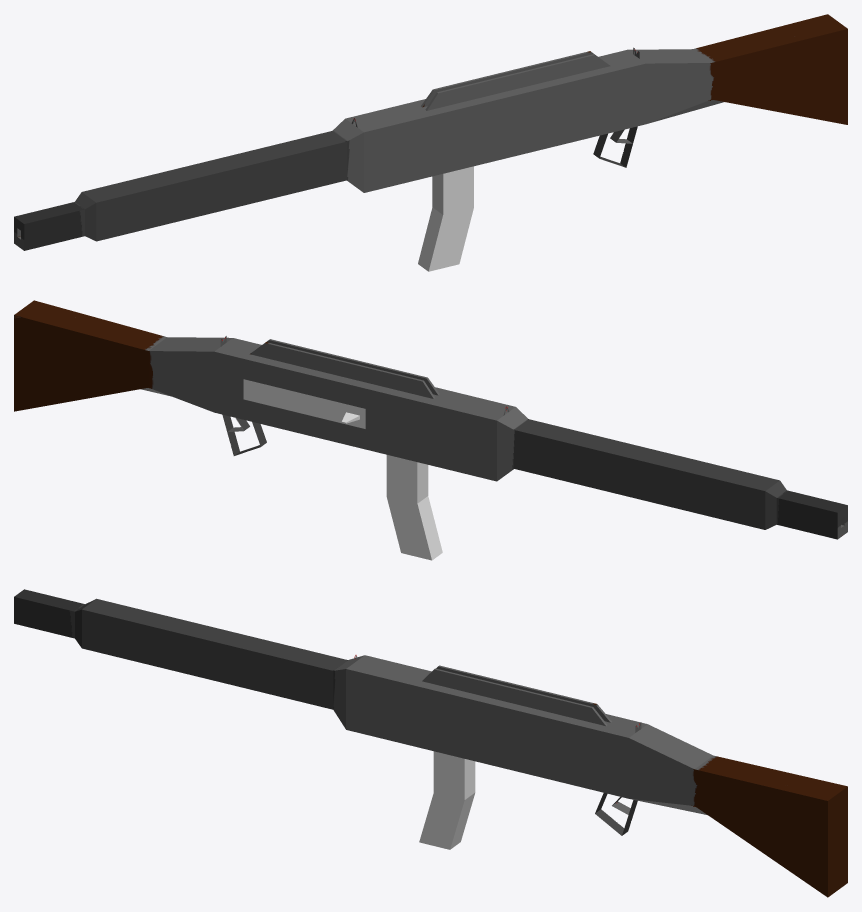
File: gun.fbx
The picture shows the model from 3 angles, top to bottom: view 1: azimuth 30°, elevation 25°; view 2: azimuth 150°, elevation 25°; view 3: azimuth 330°, elevation 25°; orthographic projection.
Parts seen in each view (by area): view 1: Plane, Cube; view 2: Plane, Cube, AmmoSlider; view 3: Plane, Cube.
Boxes of the visible parts, x1,y1,x2,y2 form: Plane: (14, 14, 847, 250); Cube: (418, 166, 473, 271); Plane: (14, 300, 847, 539); Cube: (386, 455, 442, 560); AmmoSlider: (243, 379, 365, 428); Plane: (14, 589, 847, 897); Cube: (419, 751, 475, 849).
Size of the model in its own units: 156 by 31.66 by 9.86.
1 material, 1 textured.
